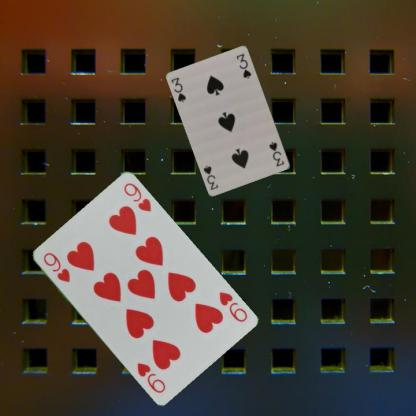3s: (266, 139, 286, 168), (169, 74, 187, 104)
9h: (216, 289, 249, 323), (40, 250, 71, 284)
